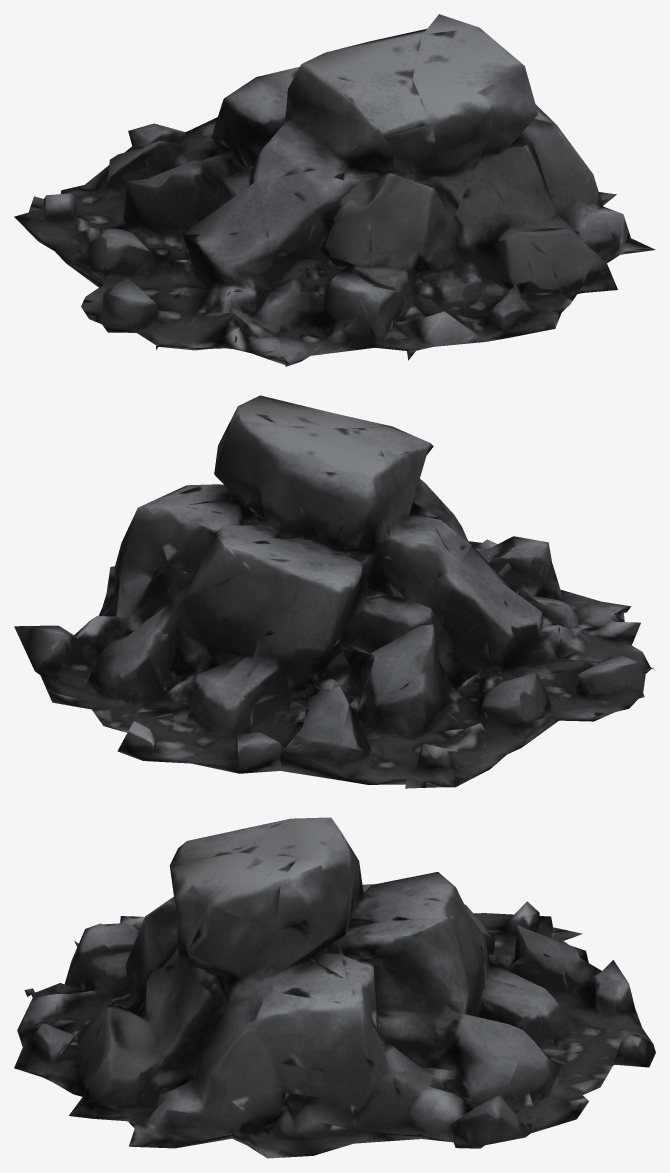
File: rubble_small.glb
3 views of the same model, one above another, from view 1: azimuth 30°, elevation 25°; view 2: azimuth 150°, elevation 25°; view 3: azimuth 270°, elevation 25° (orthographic). The views are drawn at different scales.
Bounding box in the file's own units: 1.94 × 0.7399 × 1.94.
Materials: 1 (1 with a texture image).
